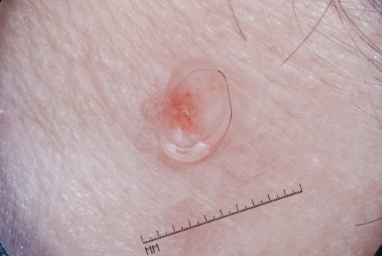seborrheic keratosis: (153, 76, 223, 146)
